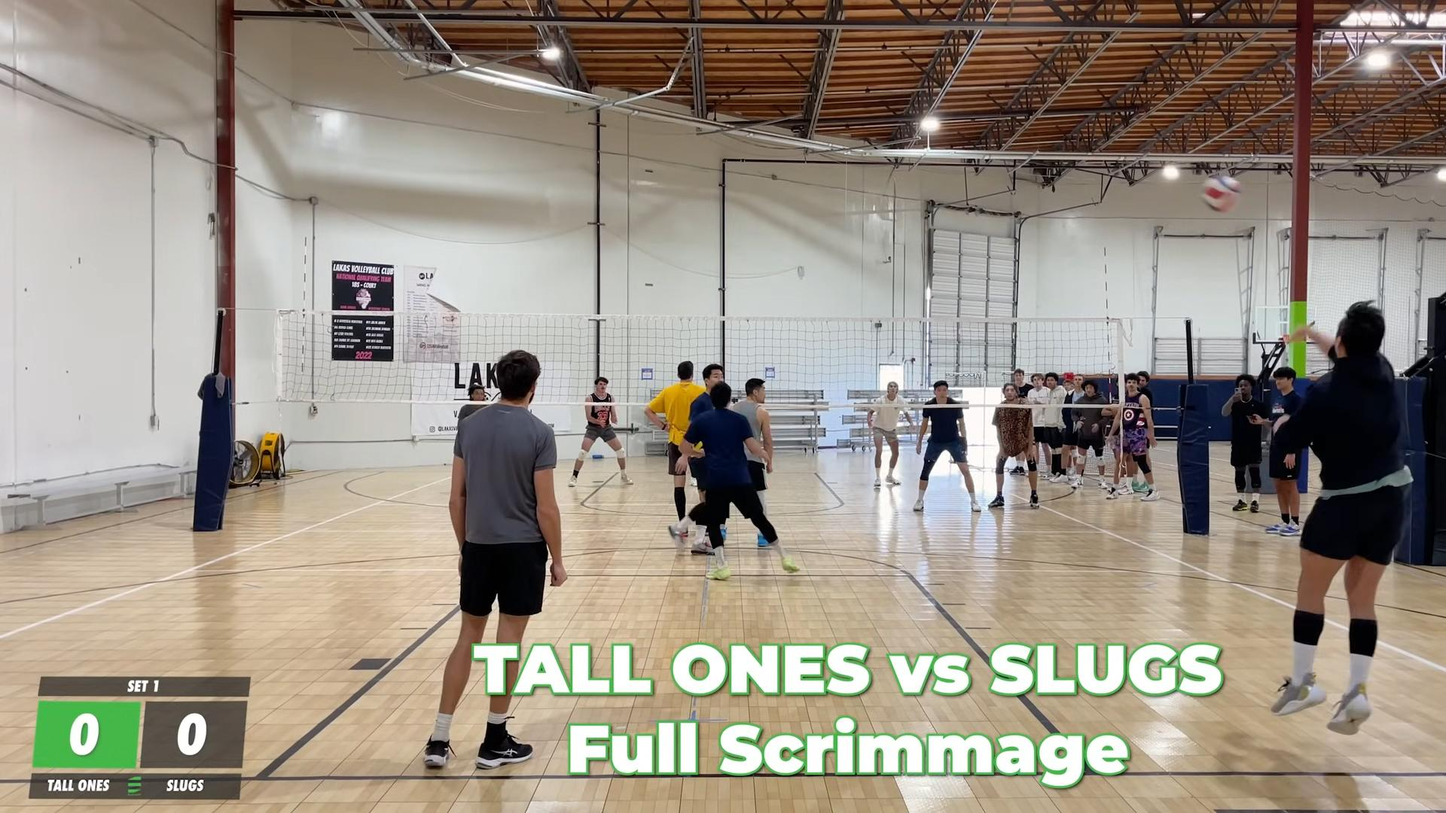battuta: (1250, 294, 1437, 748)
